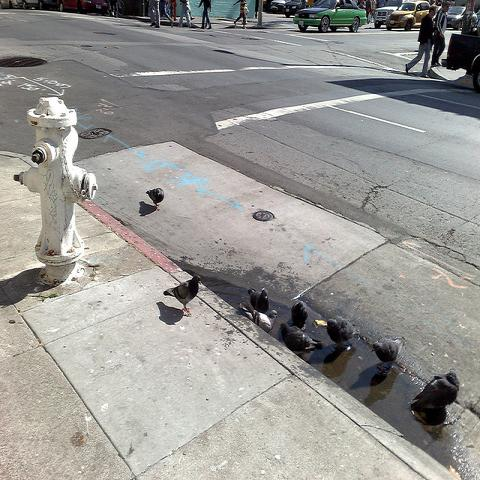car: (294, 2, 368, 31), (445, 34, 480, 94), (386, 1, 430, 30), (446, 6, 478, 30), (283, 0, 306, 18), (271, 4, 284, 14)
truck: (374, 5, 398, 28)
